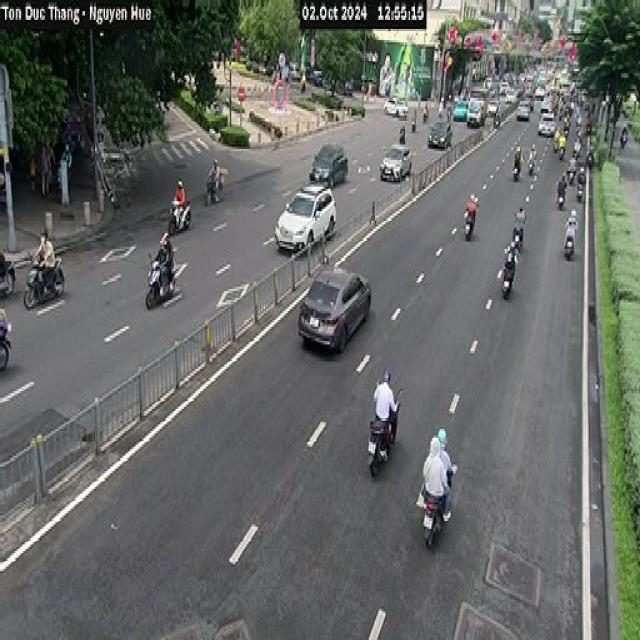car: (298, 264, 372, 354), (274, 182, 336, 254), (308, 142, 348, 187), (379, 142, 411, 180), (539, 102, 559, 144), (428, 118, 452, 149), (382, 96, 408, 118), (519, 90, 530, 120), (452, 97, 468, 117)
motorcycle: (417, 462, 458, 549), (366, 387, 402, 478), (22, 253, 64, 309), (145, 249, 176, 309), (168, 196, 192, 233), (498, 266, 524, 298), (0, 307, 11, 371), (508, 223, 534, 250), (0, 251, 15, 296), (204, 173, 224, 204), (563, 218, 575, 258), (463, 209, 475, 238), (576, 178, 590, 200), (510, 160, 528, 177), (568, 160, 579, 186), (526, 158, 541, 176), (556, 178, 565, 207)
person: (421, 436, 451, 520), (372, 366, 398, 444), (31, 227, 55, 293), (151, 231, 174, 293), (170, 178, 185, 226), (496, 242, 517, 276), (566, 193, 581, 236), (464, 193, 478, 236), (208, 158, 220, 200), (515, 134, 525, 169), (576, 165, 590, 190), (512, 206, 524, 233), (568, 160, 578, 183), (528, 138, 538, 161), (400, 123, 409, 144)
truck: (469, 82, 487, 118)
